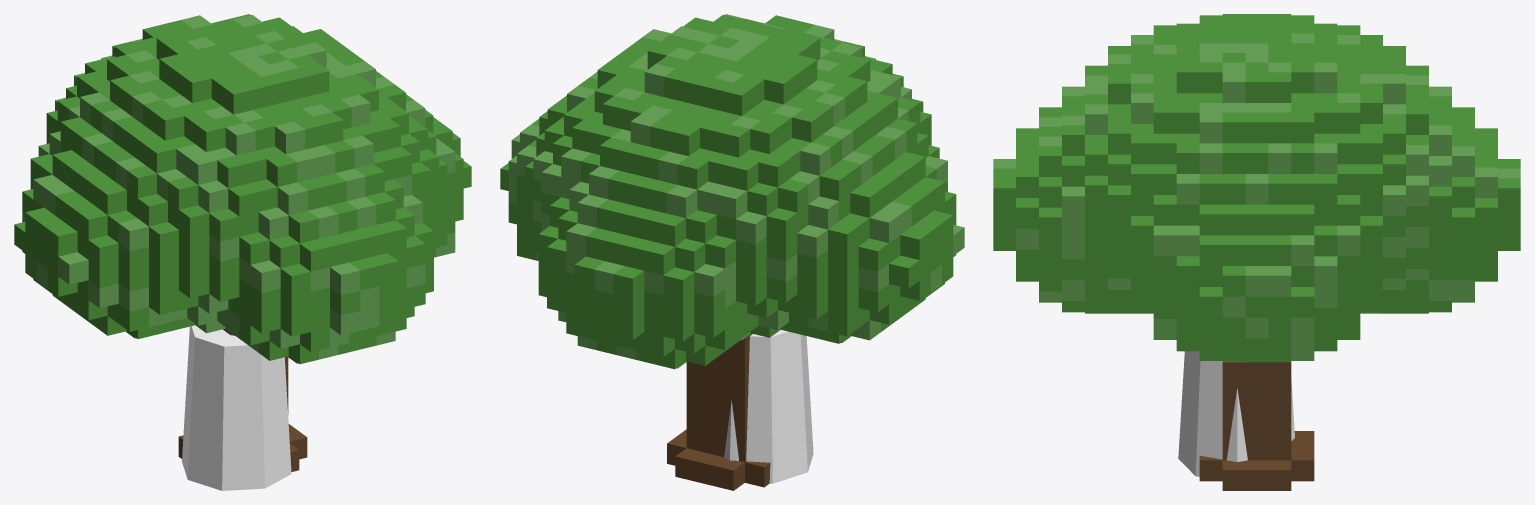
Rendered from arvore_verde_adulta.glb.
The picture shows the model from 3 angles, left to right: view 1: azimuth 30°, elevation 25°; view 2: azimuth 150°, elevation 25°; view 3: azimuth 270°, elevation 25°; orthographic projection. The views are drawn at different scales.
Parts seen in each view (by area): view 1: Full Grow_001_2, Colisao_003; view 2: Full Grow_001_2, Colisao_003; view 3: Full Grow_001_2, Colisao_003.
Boxes of the visible parts, left/top/right/bottom form: Full Grow_001_2: left=14, top=14, right=471, bottom=471; Colisao_003: left=182, top=325, right=291, bottom=490; Full Grow_001_2: left=500, top=14, right=964, bottom=490; Colisao_003: left=724, top=330, right=813, bottom=483; Full Grow_001_2: left=993, top=14, right=1520, bottom=490; Colisao_003: left=1178, top=351, right=1294, bottom=476.
Bounding box in the file's own units: 3.24 × 3.1 × 3.54.
